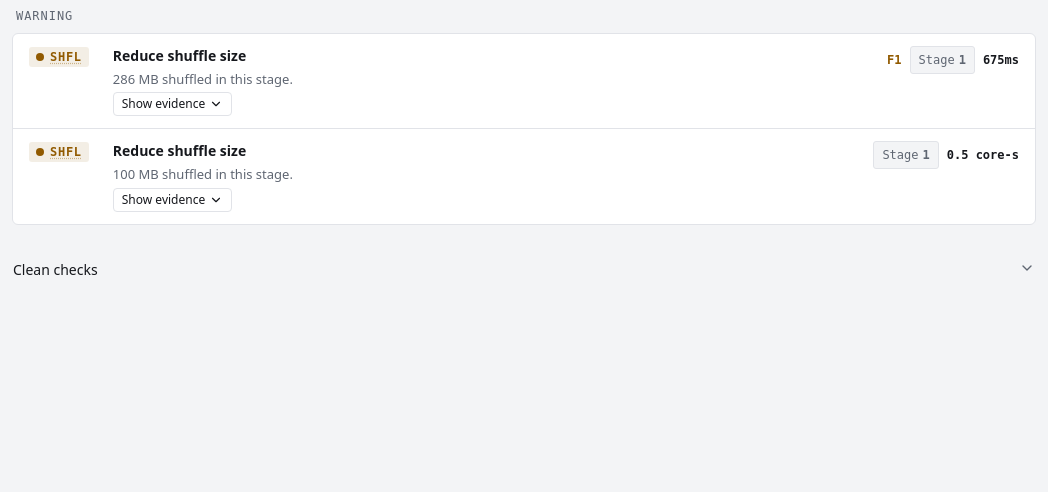
Scenario: evidence panel on a Findings row › gives each row of a type its own panel
Click the button "Show evidence" below "286 MB shuffled in this stage.": (172,104) [113,92,232,116]
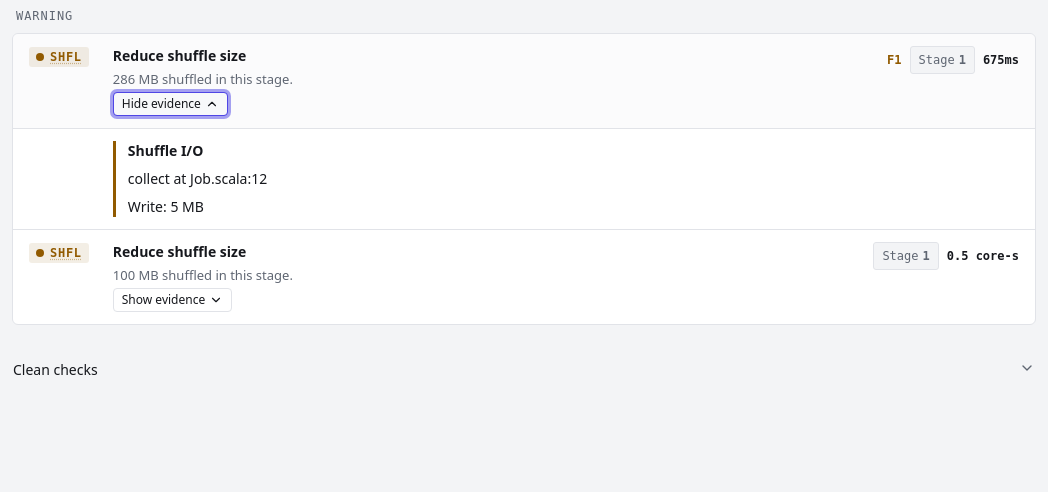
Click the button "Show evidence": (172,300) [113,288,232,312]
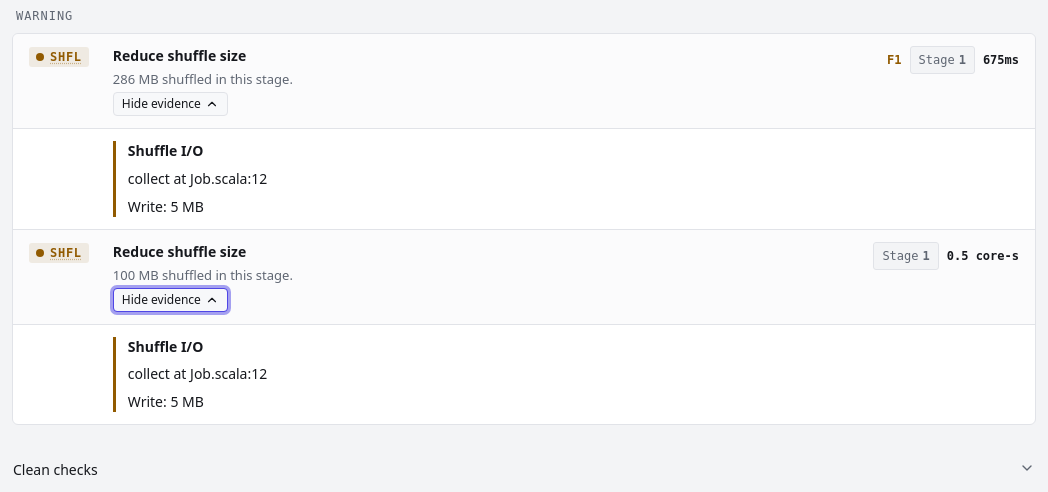
Expected: the element with id "finding-evidence-shuffle-1" is shown, [113,141,1019,217]
Expected: the number of headings "Shuffle I/O" is 2, [128,141,203,161]; [128,337,203,356]
Expected: the element with id "finding-evidence-shuffle-2" is shown, [113,337,1019,412]
